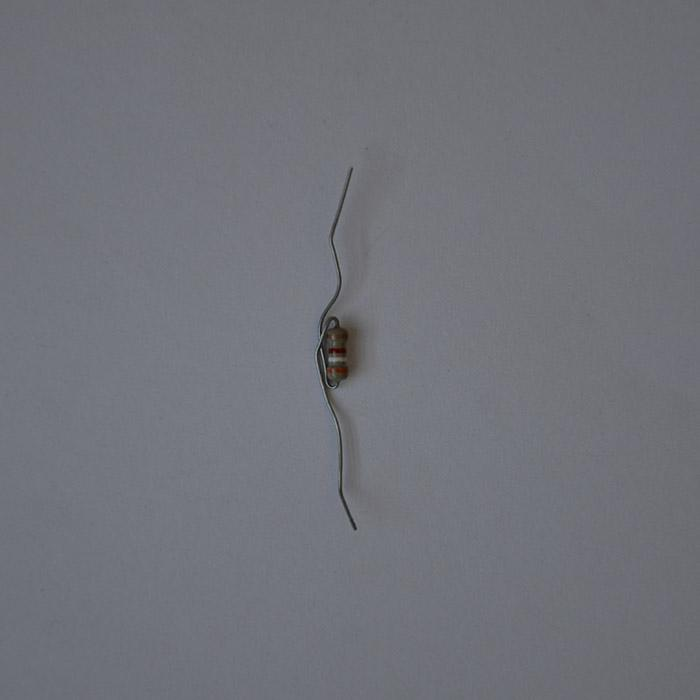resistor: (320, 323, 353, 387)
